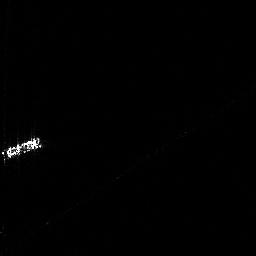ship: (1, 134, 43, 165)
